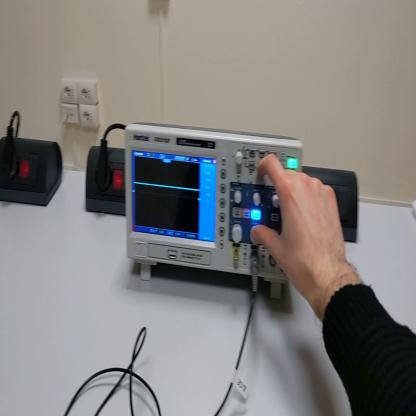hand: (252, 150, 349, 306)
oscilloscope: (123, 124, 301, 301)
socket: (2, 137, 64, 210), (83, 144, 127, 221)
